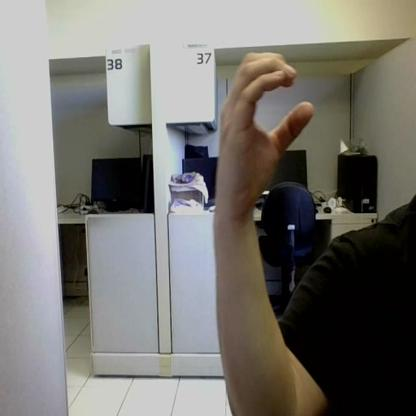C: (219, 53, 314, 205)
